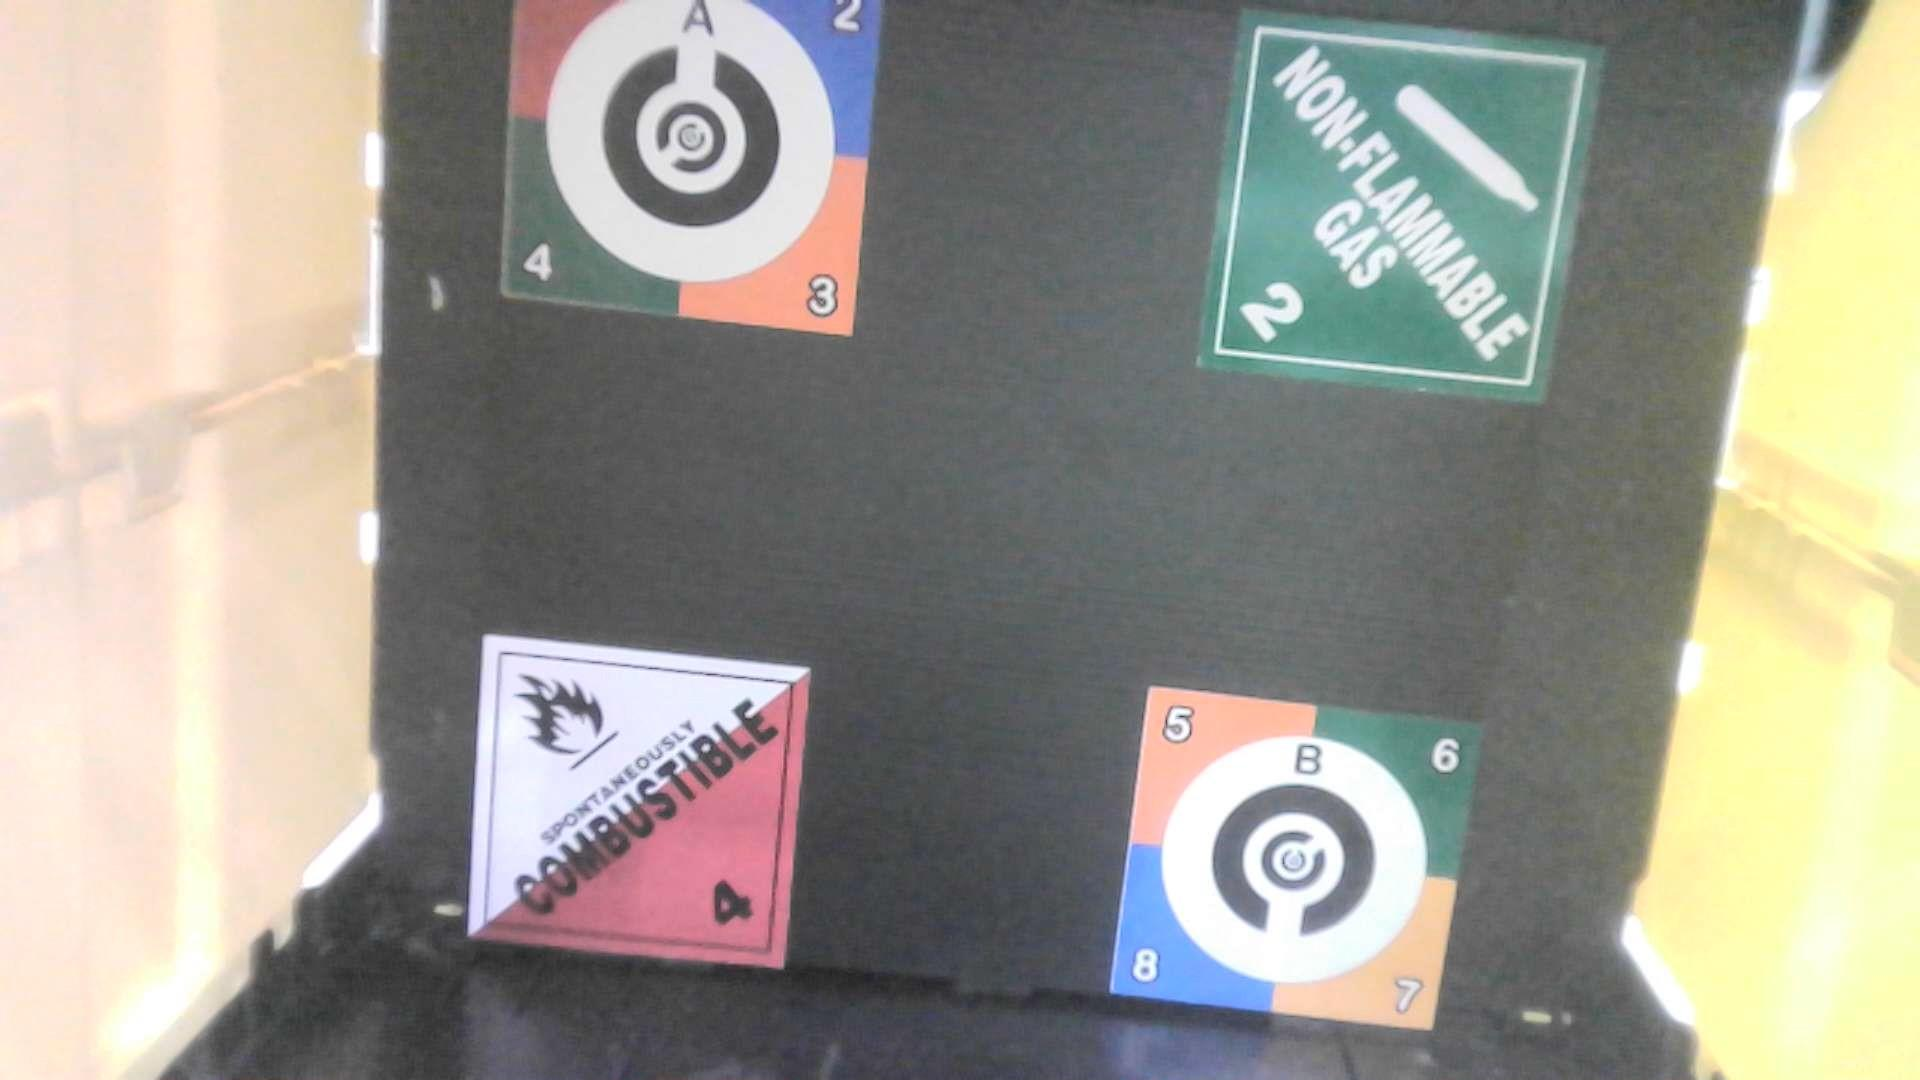non-flammable-gas: (1178, 1, 1630, 436)
spontaneously-combustible: (448, 616, 840, 982)
